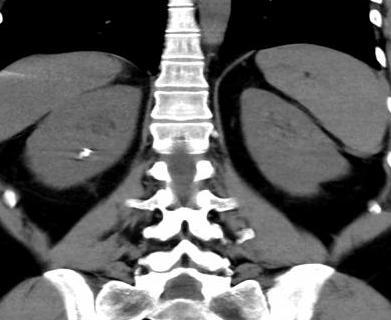Tas_Var: (82, 147, 93, 152), (79, 150, 83, 160), (82, 152, 90, 156)
